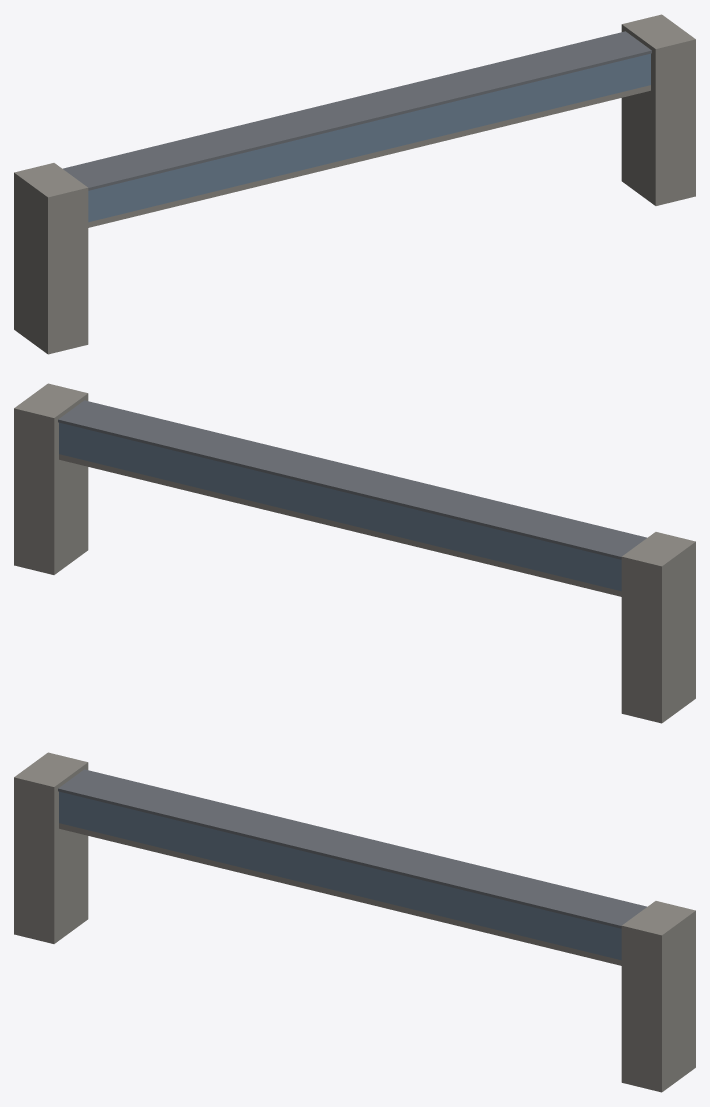
File: footbridge.glb
3 views of the same model, one above another, from view 1: azimuth 30°, elevation 25°; view 2: azimuth 150°, elevation 25°; view 3: azimuth 330°, elevation 25° (orthographic).
Parts seen in each view (by area): view 1: chunk_0_0; view 2: chunk_0_0; view 3: chunk_0_0.
Part boxes in pixels (bbox=[...]): chunk_0_0: bbox=[14, 14, 695, 354]; chunk_0_0: bbox=[14, 383, 695, 723]; chunk_0_0: bbox=[14, 752, 695, 1092].
Size of the model in its own units: 48.34 by 11.2 by 4.4.
